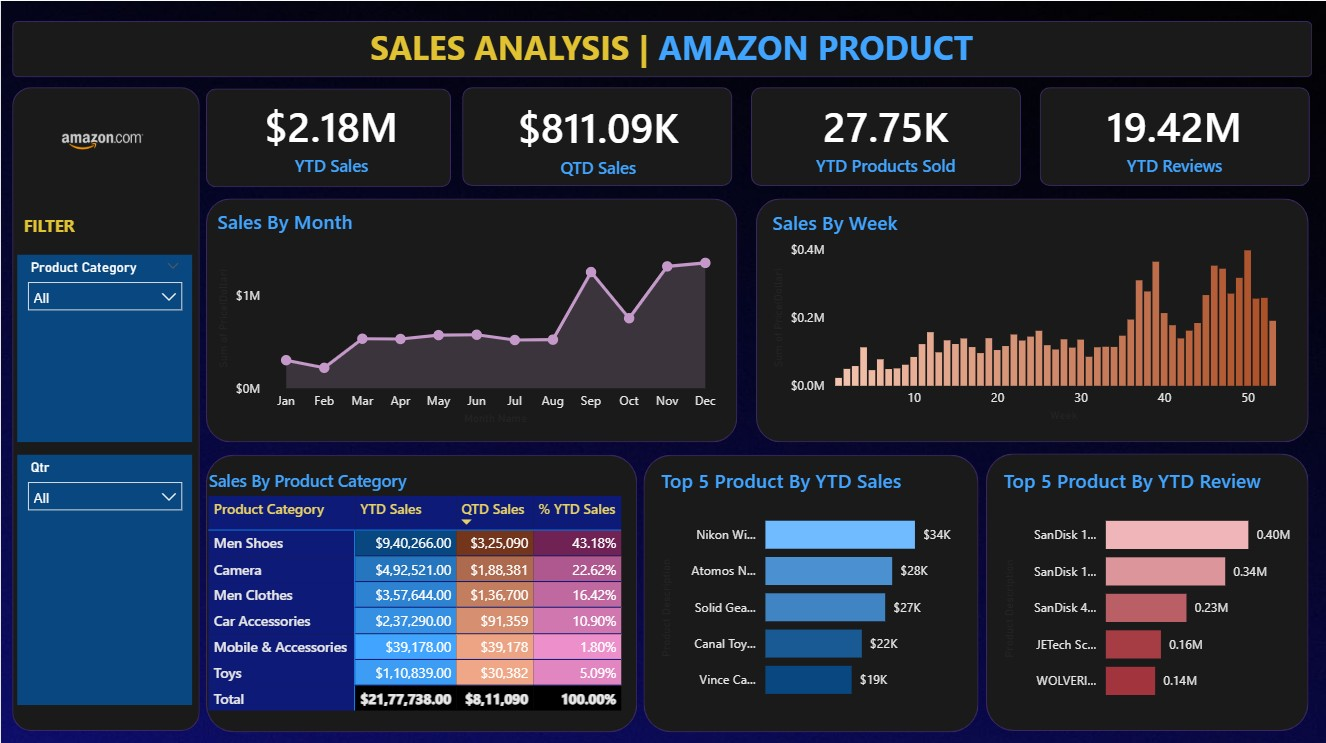

This screenshot's page, from the dashboard's own definition file:
{"tool":"powerbi","page":{"name":"Page 1","canvas":[1280,720],"ordinal":0},"visuals":[{"type":"shape","box":[10.9,19.3,1254.7,54.3],"z":0},{"type":"textbox","box":[284.7,18.1,725.1,54.3],"z":1000},{"type":"shape","box":[10.9,83.2,181,621.3],"z":2000},{"type":"shape","box":[197.9,84.5,236.5,95.3],"z":3000},{"type":"card","fields":{"Values":["Amazon_Data.YTD Sales"]},"box":[207.5,89.3,223.2,83.2],"z":4000},{"type":"shape","box":[445.7,83.2,260.6,95.3],"z":5000},{"type":"shape","box":[724,83.2,260.6,95.3],"z":6000},{"type":"shape","box":[1002.3,83.2,260.6,95.3],"z":7000},{"type":"card","fields":{"Values":["Amazon_Data.QTD Sales"]},"box":[453.3,90.5,246.1,83.2],"z":8000},{"type":"card","fields":{"Values":["Amazon_Data.YTD Products Sold"]},"box":[730.8,89.3,246.1,83.2],"z":9000},{"type":"card","fields":{"Values":["Amazon_Data.YTD Reviews"]},"box":[1009.5,89.3,246.1,83.2],"z":10000},{"type":"shape","box":[197.9,190.6,512.7,235.3],"z":11000},{"type":"areaChart","title":"Sales By Month","fields":{"Category":["Date Table.Month Name"],"Y":["Sum(Amazon_Data.Price(Dollar))"]},"box":[203.9,200.3,495.8,213.5],"z":12000},{"type":"shape","box":[728.7,190.6,533.2,235.3],"z":13000},{"type":"columnChart","title":"Sales By Week","fields":{"Category":["Date Table.Week"],"Y":["Sum(Amazon_Data.Price(Dollar))"]},"box":[739.5,201.5,516.4,209.9],"z":14000},{"type":"shape","box":[197.9,437.9,416.2,267.8],"z":15000},{"type":"pivotTable","title":"Sales By Product Category","fields":{"Rows":["Amazon_Data.Product Category"],"Values":["Amazon_Data.YTD Sales1","Amazon_Data.QTD Sales","Amazon_Data.YTD Sales"]},"box":[195.4,451.2,416.2,238.9],"z":16000},{"type":"shape","box":[620.1,437.9,323.3,267.8],"z":17000},{"type":"shape","box":[950.7,436.7,311.3,267.8],"z":18000},{"type":"clusteredBarChart","title":"Top 5 Product By YTD Sales","fields":{"Category":["Amazon_Data.Product Description"],"Y":["Amazon_Data.YTD Sales"]},"box":[632.2,450,300.4,238.9],"z":19000},{"type":"clusteredBarChart","title":"Top 5 Product By YTD Review","fields":{"Category":["Amazon_Data.Product Description"],"Y":["Amazon_Data.YTD Reviews"]},"box":[962.7,450,292,240.1],"z":20000},{"type":"slicer","fields":{"Values":["Amazon_Data.Product Category"]},"box":[15.7,244.9,168.9,181],"z":21000},{"type":"slicer","fields":{"Values":["Date Table.Qtr"]},"box":[15.7,437.9,168.9,241.3],"z":22000},{"type":"image","box":[14.5,91.7,167.7,88.1],"z":23000},{"type":"textbox","box":[16.9,200.3,68.8,36.2],"z":24000}]}

Visuals, with their boxes in screenshot pixels (x1, y1, x2, y2), scaled from the page's 1280x720 canvas onto the 1326x743 screenshot:
shape: [x1=11, y1=20, x2=1311, y2=76]
textbox: [x1=295, y1=19, x2=1046, y2=75]
shape: [x1=11, y1=86, x2=199, y2=727]
shape: [x1=205, y1=87, x2=450, y2=186]
card - Amazon_Data.YTD Sales: [x1=215, y1=92, x2=446, y2=178]
shape: [x1=462, y1=86, x2=732, y2=184]
shape: [x1=750, y1=86, x2=1020, y2=184]
shape: [x1=1038, y1=86, x2=1308, y2=184]
card - Amazon_Data.QTD Sales: [x1=470, y1=93, x2=725, y2=179]
card - Amazon_Data.YTD Products Sold: [x1=757, y1=92, x2=1012, y2=178]
card - Amazon_Data.YTD Reviews: [x1=1046, y1=92, x2=1301, y2=178]
shape: [x1=205, y1=197, x2=736, y2=440]
"Sales By Month" areaChart: [x1=211, y1=207, x2=725, y2=427]
shape: [x1=755, y1=197, x2=1307, y2=440]
"Sales By Week" columnChart: [x1=766, y1=208, x2=1301, y2=425]
shape: [x1=205, y1=452, x2=636, y2=728]
"Sales By Product Category" pivotTable: [x1=202, y1=466, x2=634, y2=712]
shape: [x1=642, y1=452, x2=977, y2=728]
shape: [x1=985, y1=451, x2=1307, y2=727]
"Top 5 Product By YTD Sales" clusteredBarChart: [x1=655, y1=464, x2=966, y2=711]
"Top 5 Product By YTD Review" clusteredBarChart: [x1=997, y1=464, x2=1300, y2=712]
slicer - Amazon_Data.Product Category: [x1=16, y1=253, x2=191, y2=440]
slicer - Date Table.Qtr: [x1=16, y1=452, x2=191, y2=701]
image: [x1=15, y1=95, x2=189, y2=186]
textbox: [x1=18, y1=207, x2=89, y2=244]
